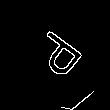P_SE: (26, 25, 89, 85)
